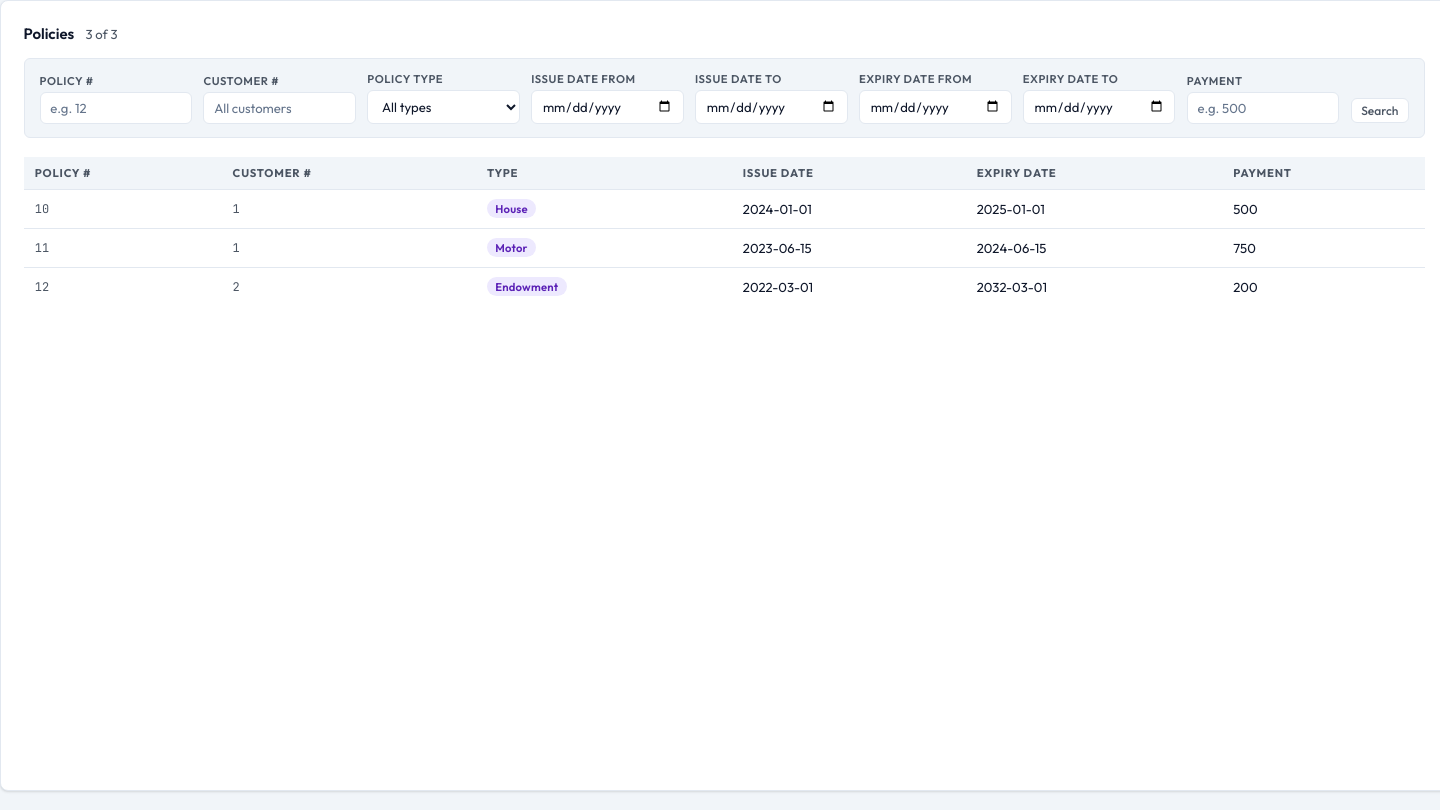
Test: PolicyList – detail panel › clicking Close dismisses the panel
The width and height of the screenshot is (1440, 810).
What coordinates should you click on to do the following:
click the row "10 1 House 2024-01-01 2025-01-01 500"
I would click on:
 (724, 208)
Its box is left=24, top=189, right=1425, bottom=228.
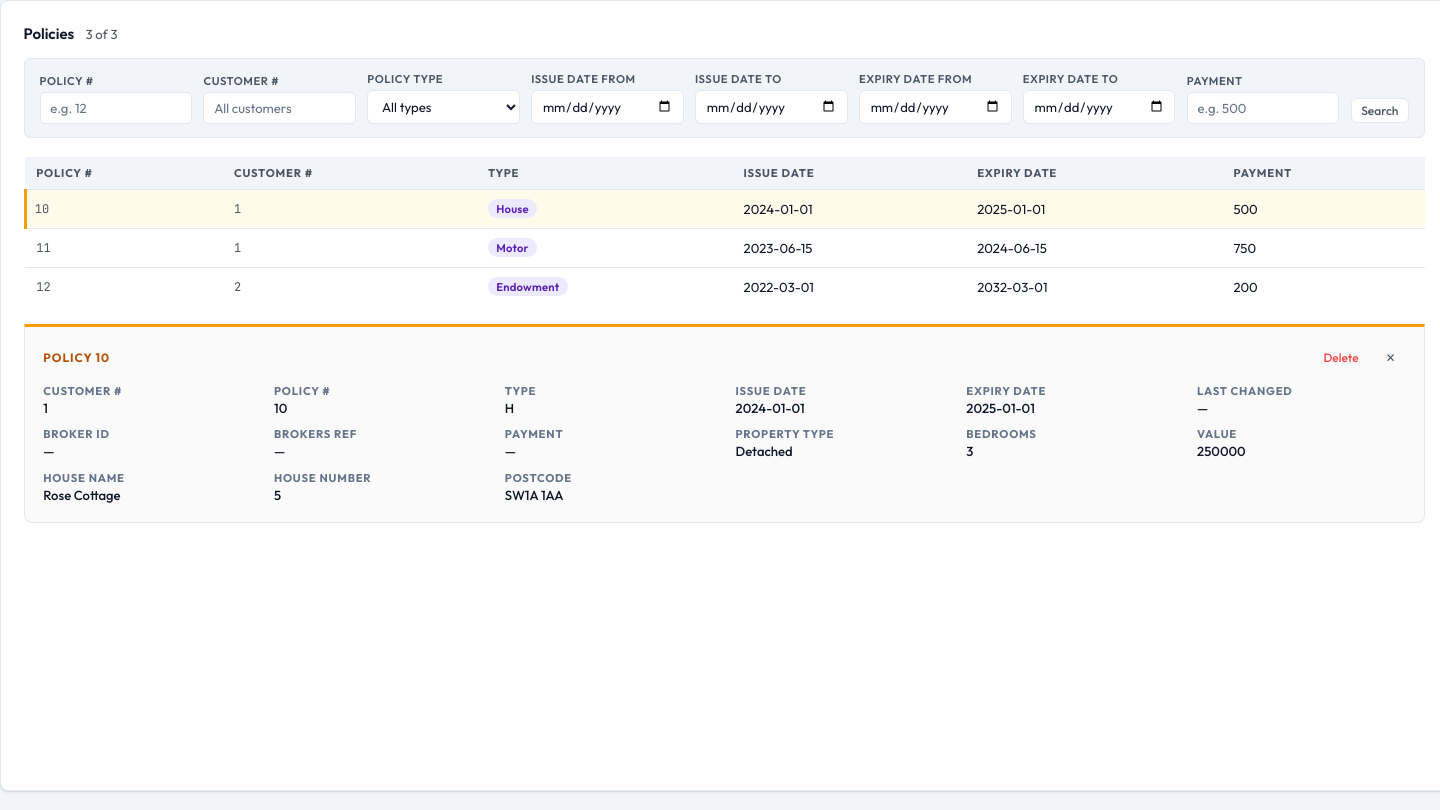
What coordinates should you click on to do the following:
click the button "✕"
I would click on:
 (1391, 357)
Its box is left=1376, top=346, right=1405, bottom=368.
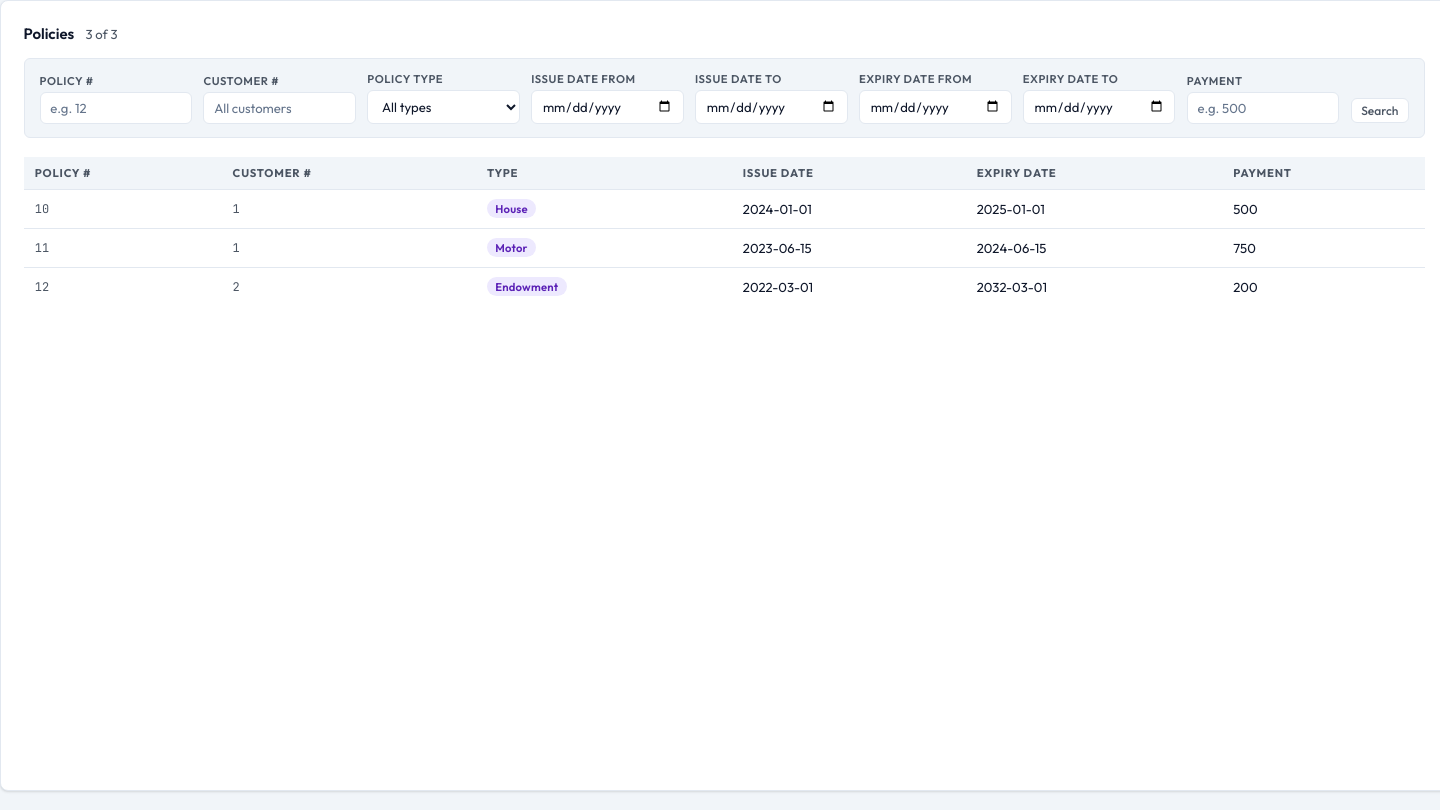
Now the text "Policy 10" is gone
